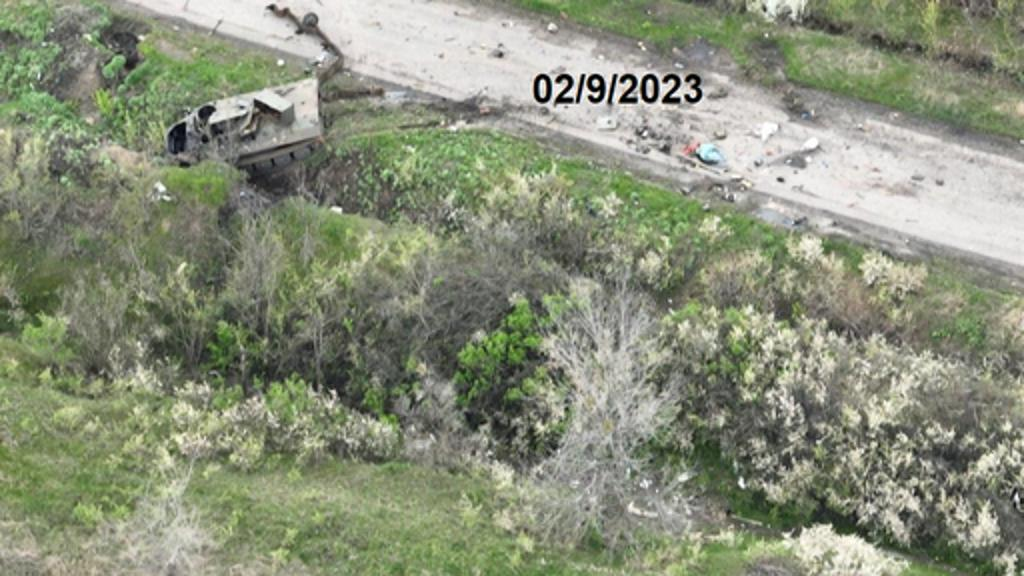APC-IFV: (154, 68, 332, 186)
